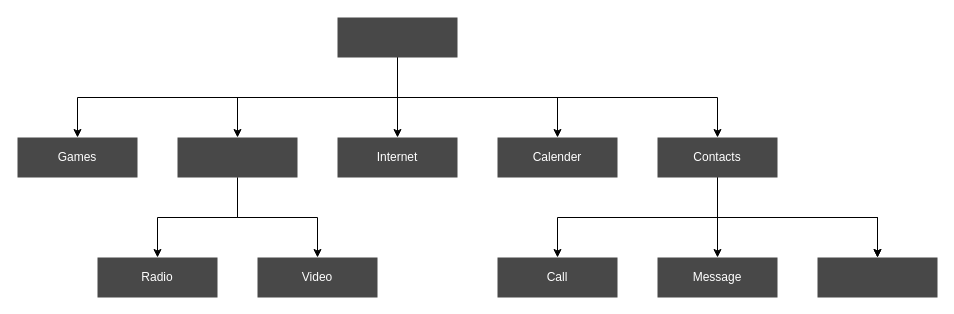
The diagram is 954 pixels wide and 314 high, and some of its shapes have lost their labels. Each missing label, with the box of its shape:
Entertainment: (177, 137, 297, 177)
Home: (337, 17, 457, 57)
Video Chat: (817, 257, 937, 297)
